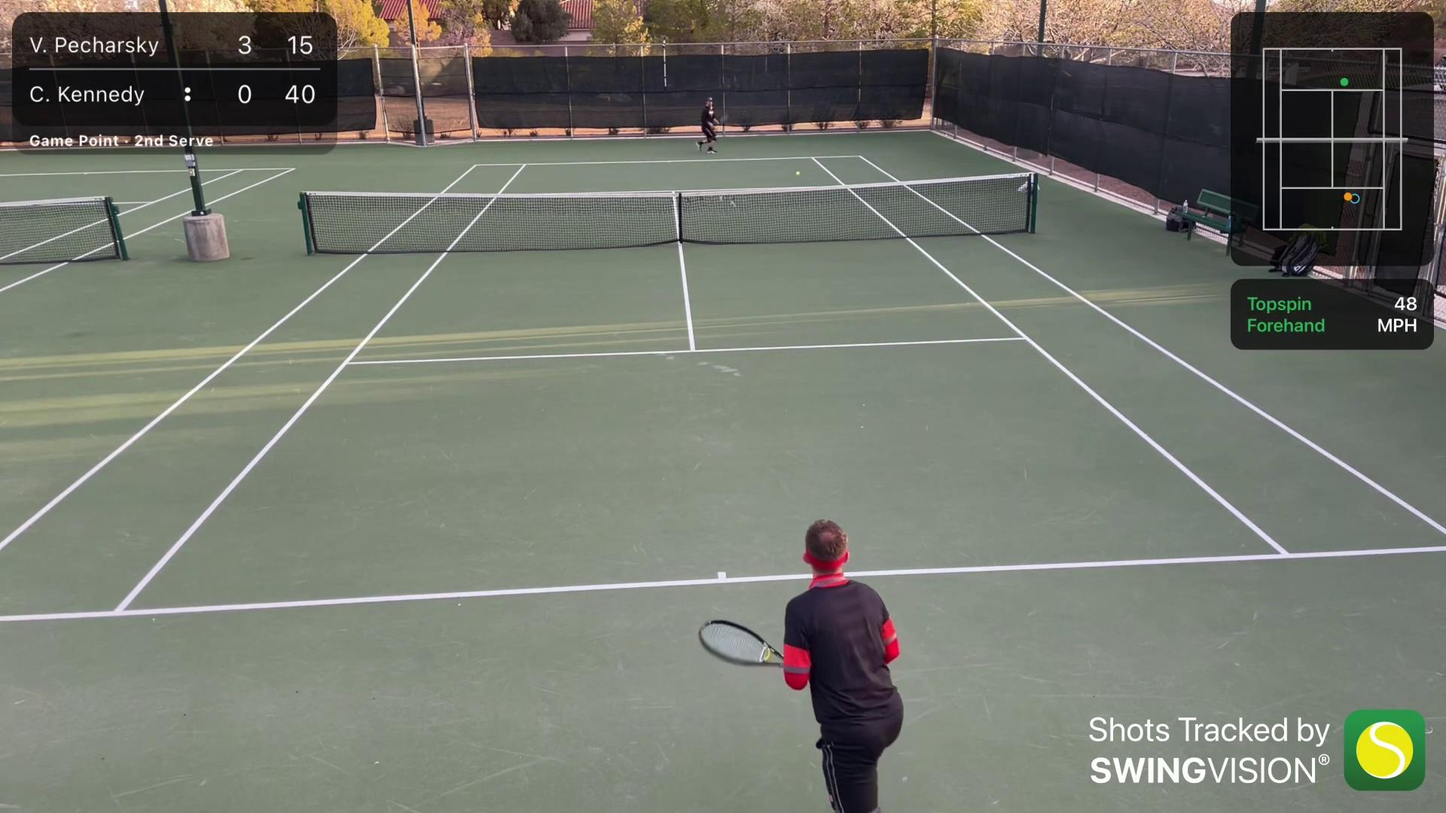ball: (794, 169, 802, 176)
